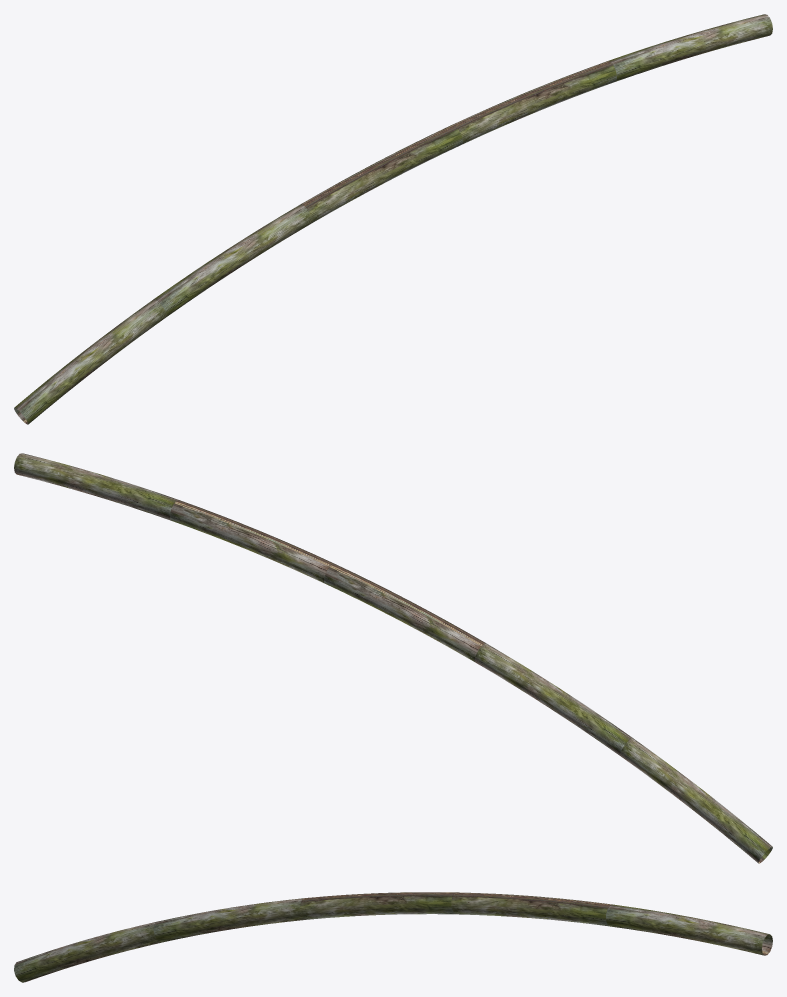
The model's file is CurvePipe.fbx.
3 renders of one model, top to bottom at view 1: azimuth 30°, elevation 25°; view 2: azimuth 150°, elevation 25°; view 3: azimuth 330°, elevation 25°, orthographic.
Parts seen in each view (by area): view 1: pipe; view 2: pipe; view 3: pipe.
Boxes of the visible parts, x1,y1,x2,y2 form: pipe: (14,14,772,424); pipe: (14,453,772,863); pipe: (14,892,772,982).
Bounding box in the file's own units: 469 × 136 × 12.
